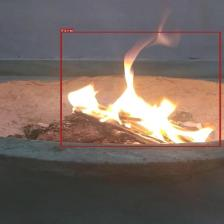fire: (60, 31, 221, 147)
